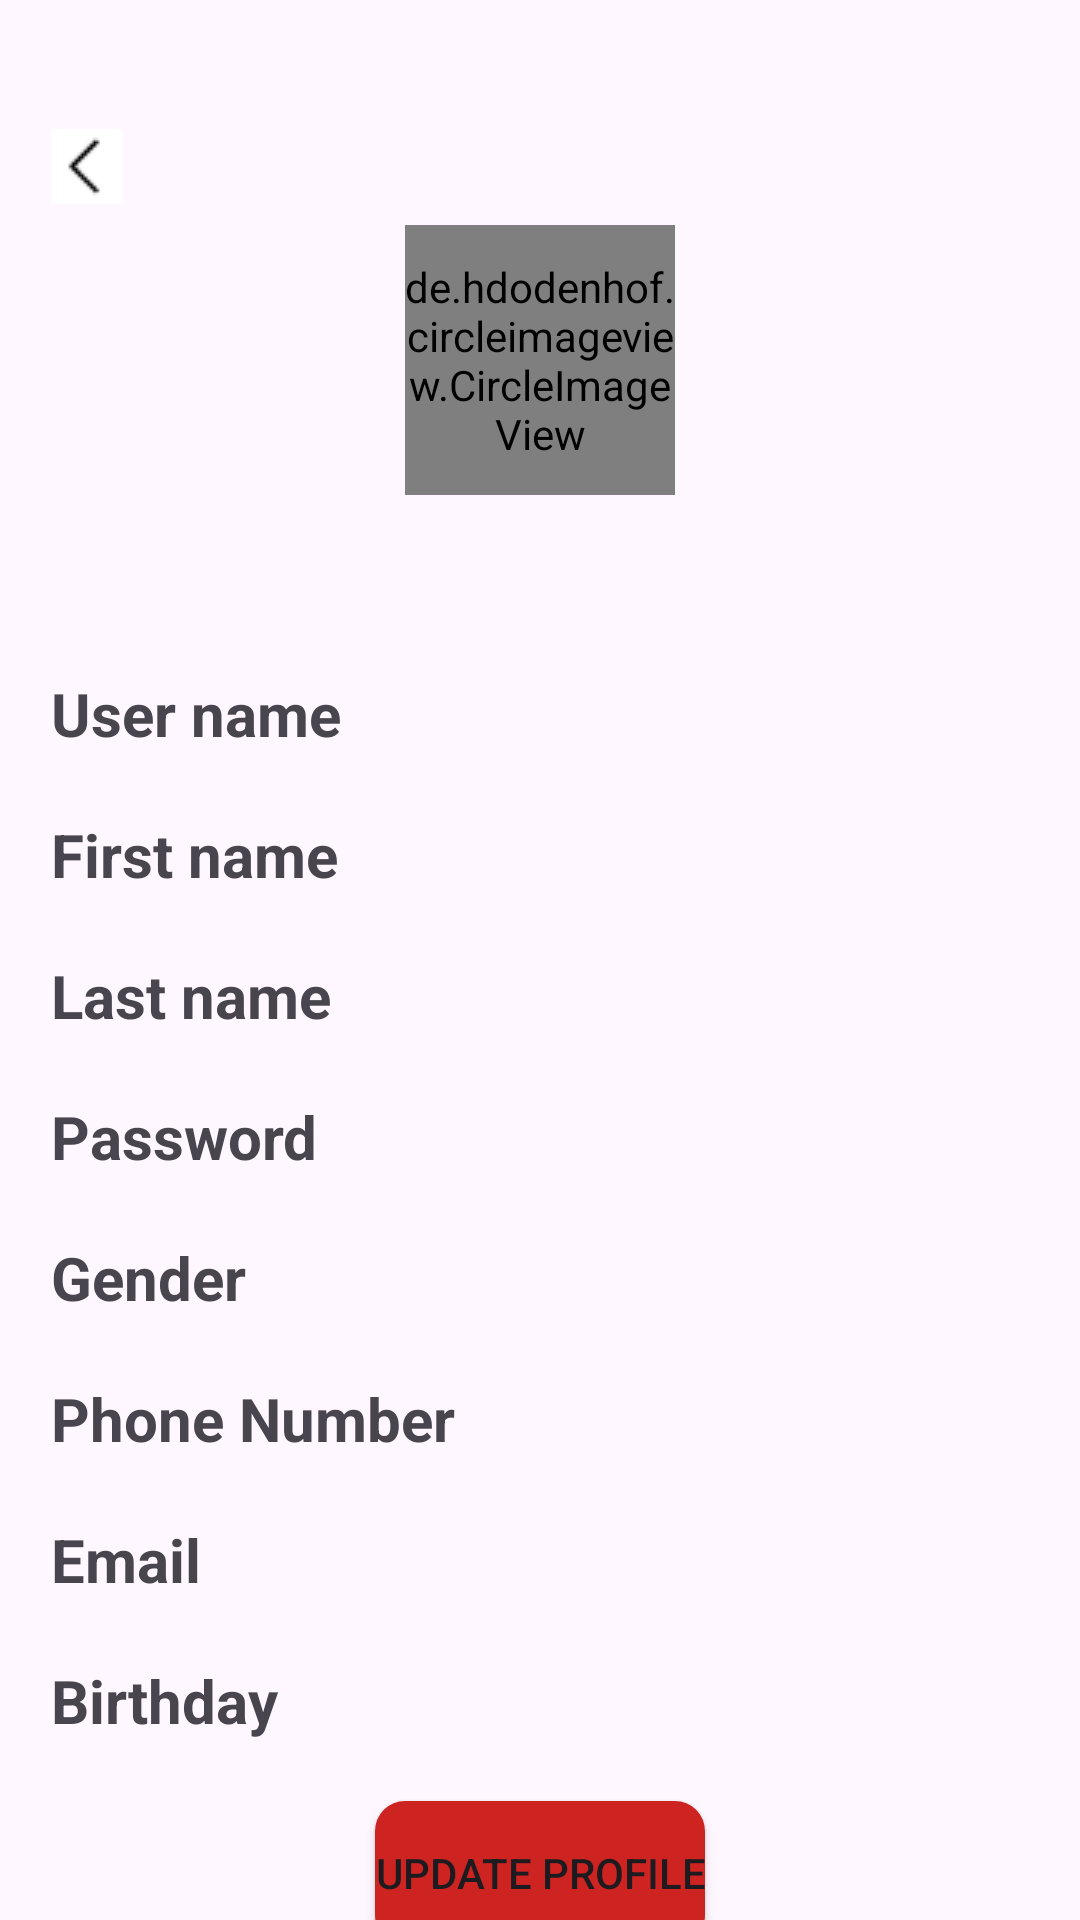

Named icons in this screenshot (1080px×1920px) and their bounding boxes, box(x1, y1, x2, y2):
back: box(68, 138, 100, 194)
